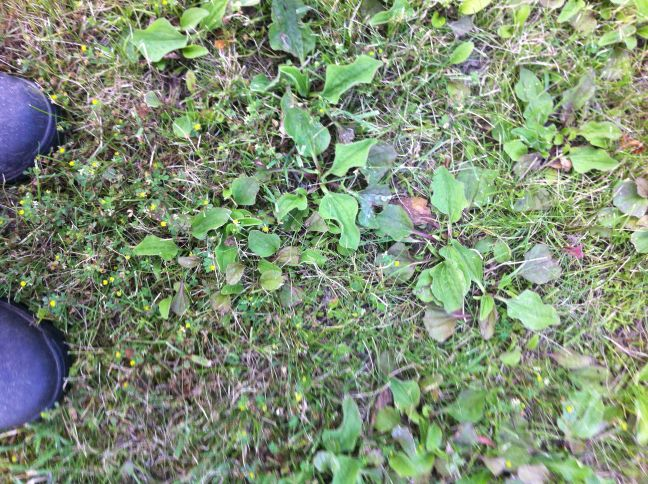weed1: (266, 100, 390, 260), (412, 153, 517, 327), (495, 56, 632, 185), (265, 3, 378, 145)
